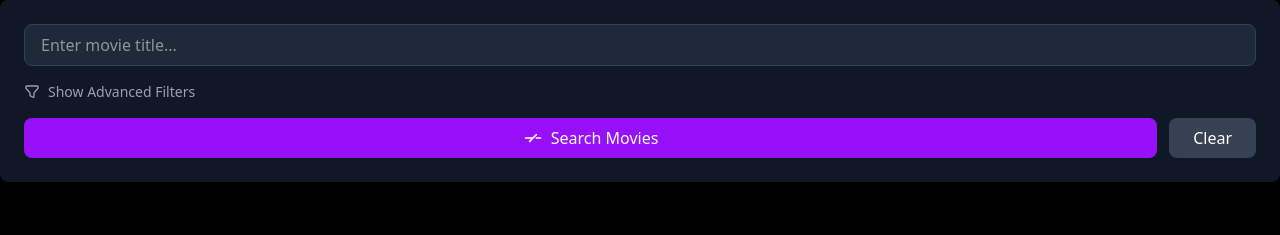
Scenario: SearchForm.vue › shows error if search query is empty
Click the button with test id "search-btn".
click(591, 138)  # box left=24, top=118, right=1157, bottom=158
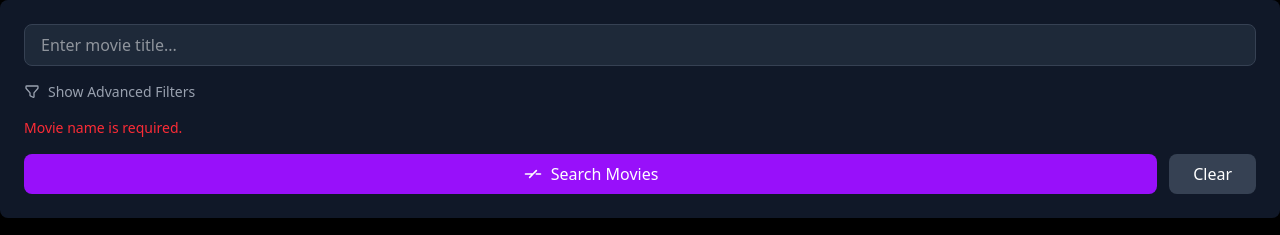
Expected: the text "Movie name is required." is shown, left=24, top=118, right=182, bottom=137
